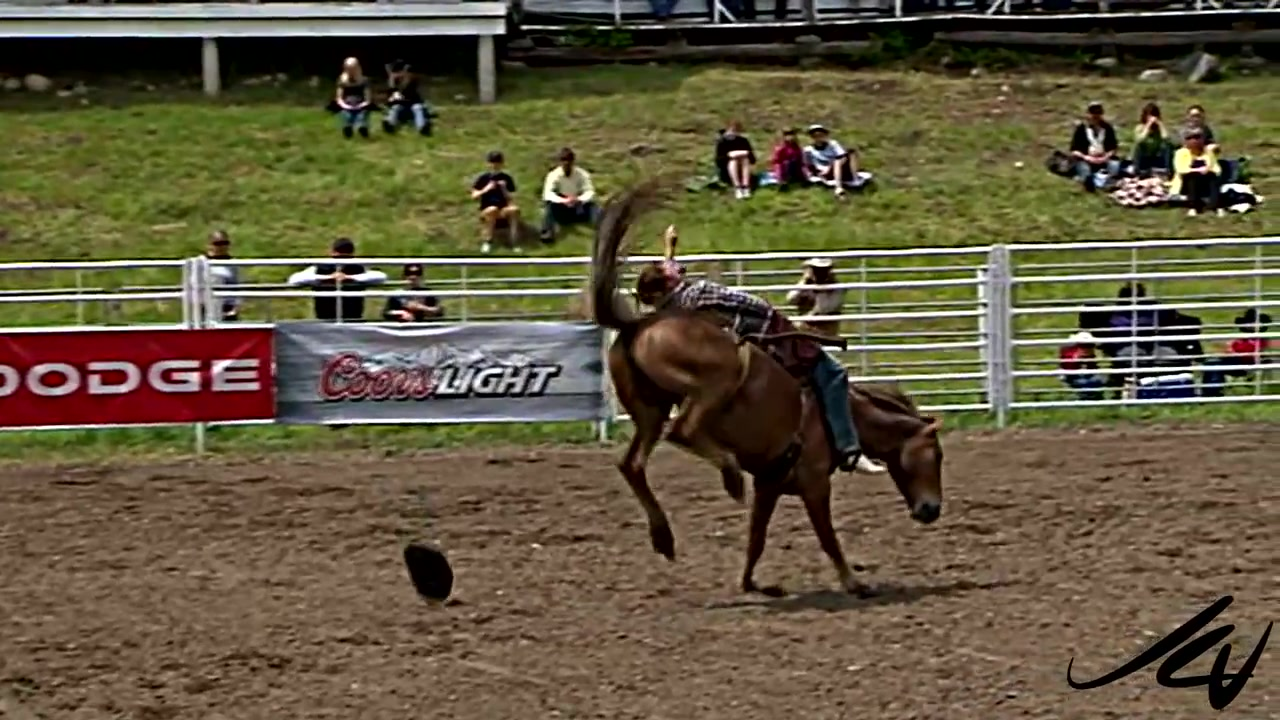horse: (591, 173, 948, 599)
